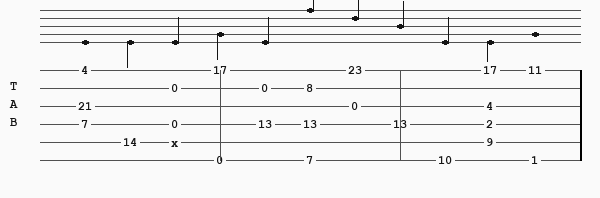0: (171, 118, 182, 130), (171, 82, 182, 94), (216, 154, 227, 166), (261, 82, 272, 94), (351, 100, 362, 112)
1: (531, 154, 542, 166)
10: (438, 154, 456, 166)
11: (528, 64, 546, 76)
13: (258, 118, 276, 130), (303, 118, 321, 130), (393, 118, 411, 130)
14: (123, 136, 141, 148)
17: (213, 64, 231, 76), (483, 64, 501, 76)
2: (486, 118, 497, 130)
21: (78, 100, 96, 112)
23: (348, 64, 366, 76)
4: (81, 64, 92, 76), (486, 100, 497, 112)
7: (81, 118, 92, 130), (306, 154, 317, 166)
8: (306, 82, 317, 94)
9: (486, 136, 497, 148)
x: (171, 137, 182, 147)
